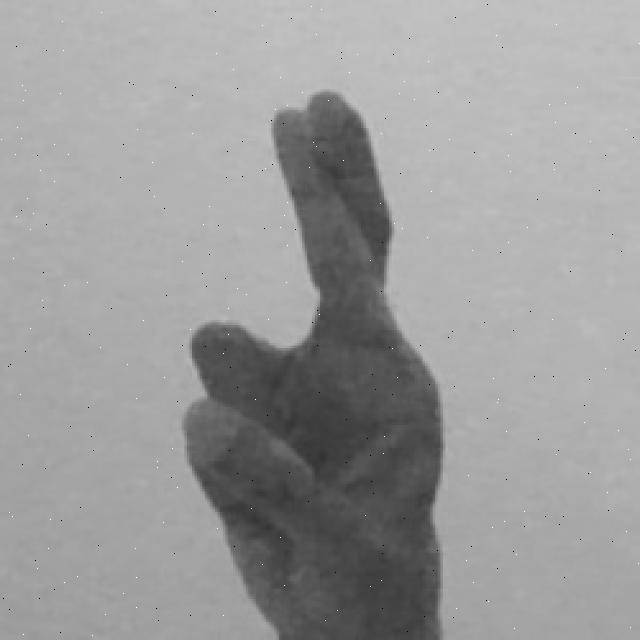R: (172, 82, 450, 640)
